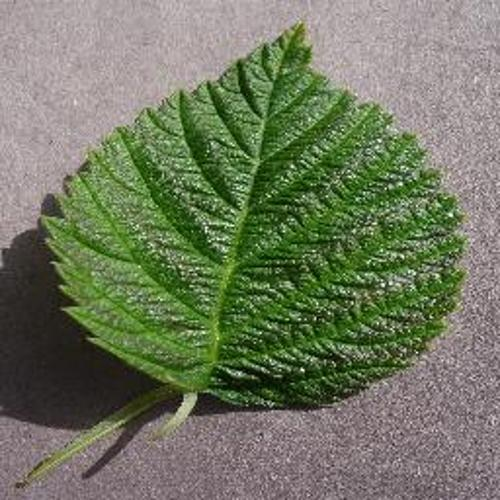Raspberry: (24, 22, 463, 481)
